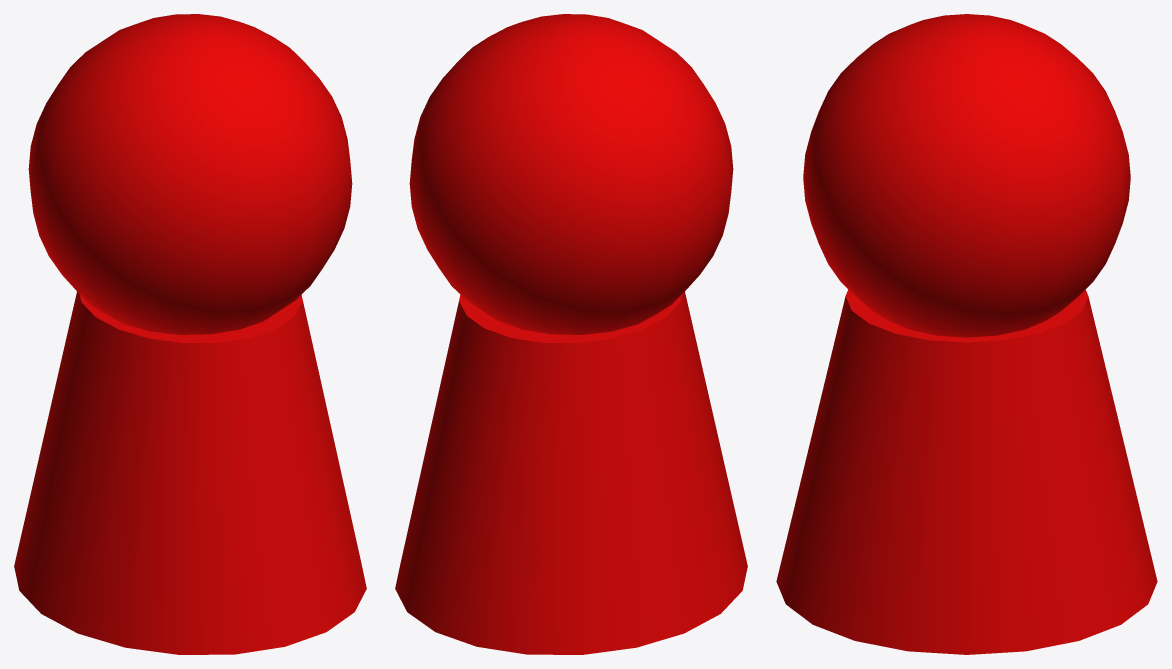
The model's file is player_2.fbx.
3 views of the same model, side by side, from view 1: azimuth 30°, elevation 25°; view 2: azimuth 150°, elevation 25°; view 3: azimuth 270°, elevation 25° (orthographic).
Visible parts, largest first — view 1: pCylinder4; view 2: pCylinder4; view 3: pCylinder4.
Boxes of the visible parts, x1,y1,x2,y2 form: pCylinder4: (14, 14, 366, 654); pCylinder4: (395, 14, 747, 654); pCylinder4: (776, 14, 1157, 654).
Bounding box in the file's own units: 72.69 × 128 × 79.83.
